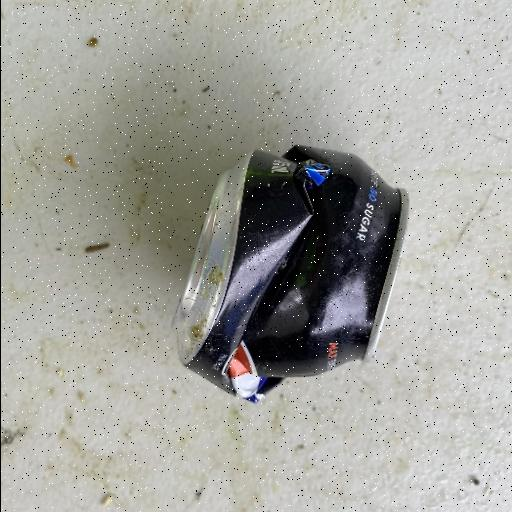Metal: (168, 140, 412, 406)
